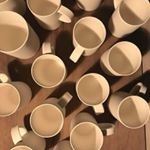cups: (27, 90, 76, 140), (67, 13, 109, 65), (28, 37, 69, 90), (1, 10, 42, 61), (68, 109, 117, 150), (99, 38, 144, 79), (76, 70, 110, 120), (1, 68, 34, 119), (26, 2, 75, 33)
